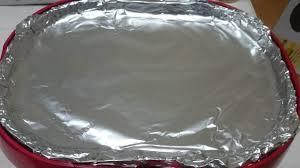metal: (0, 1, 299, 168)
